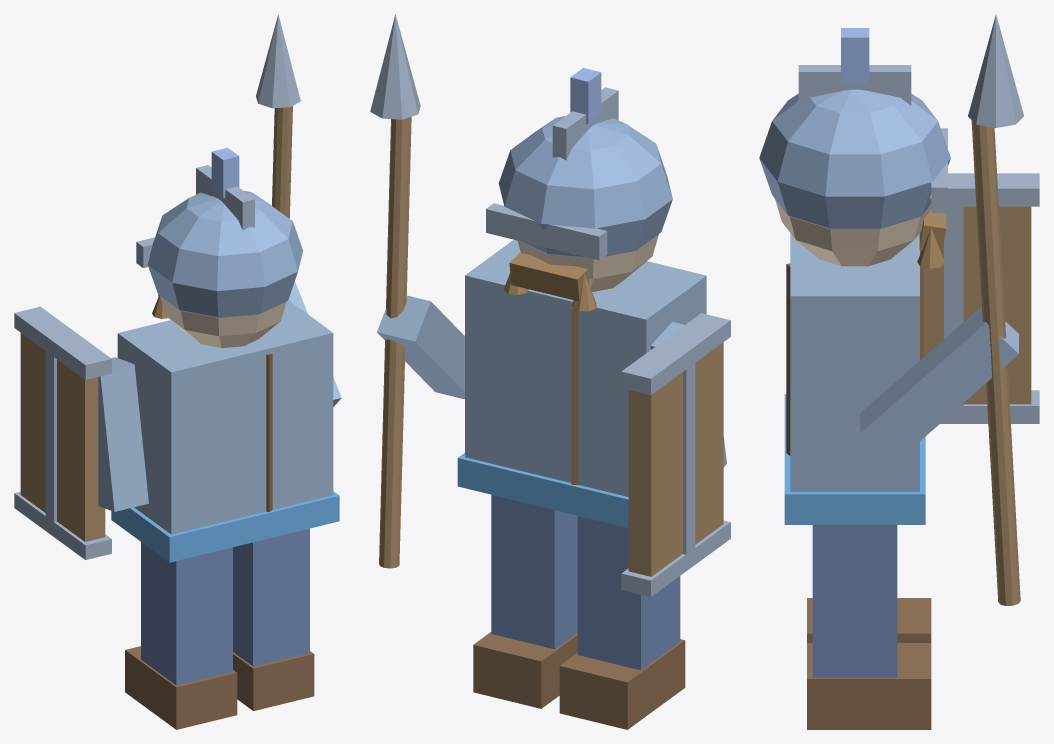
Rendered from royal_recruits.glb.
3 views of the same model, side by side, from view 1: azimuth 30°, elevation 25°; view 2: azimuth 150°, elevation 25°; view 3: azimuth 270°, elevation 25° (orthographic). The views are drawn at different scales.
Visible parts, largest first — view 1: royal_recruits; view 2: royal_recruits; view 3: royal_recruits.
Part boxes in pixels (<box>): royal_recruits: <box>14,14,341,729</box>; royal_recruits: <box>370,14,730,729</box>; royal_recruits: <box>759,14,1039,729</box>.
Size of the model in its own units: 1.32 by 2.9 by 0.995.
